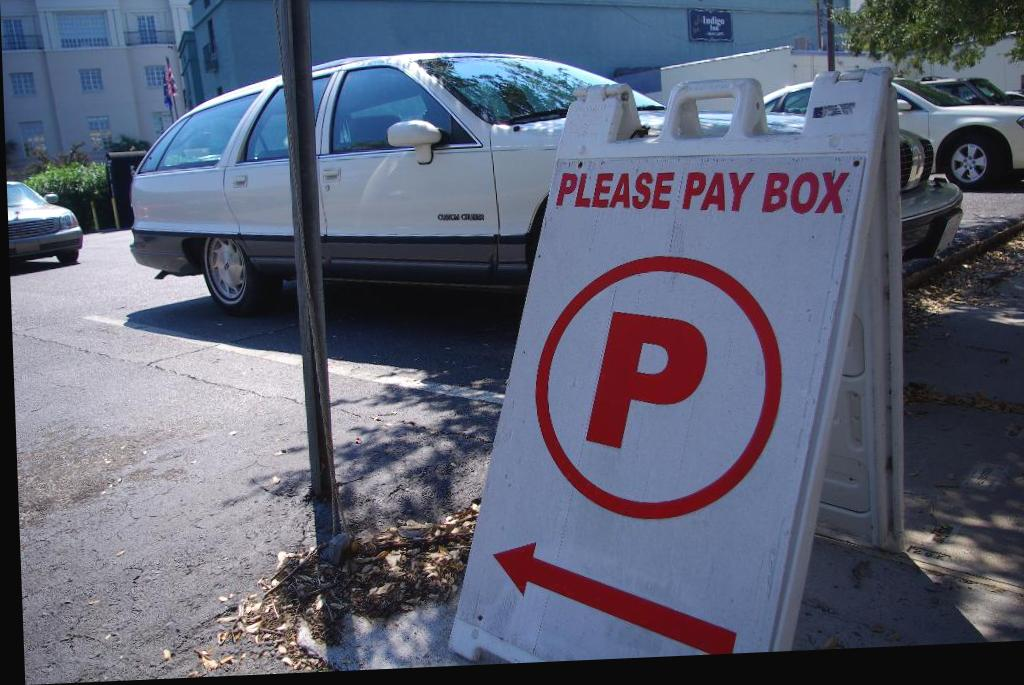License_Plate: (16, 241, 39, 253)
